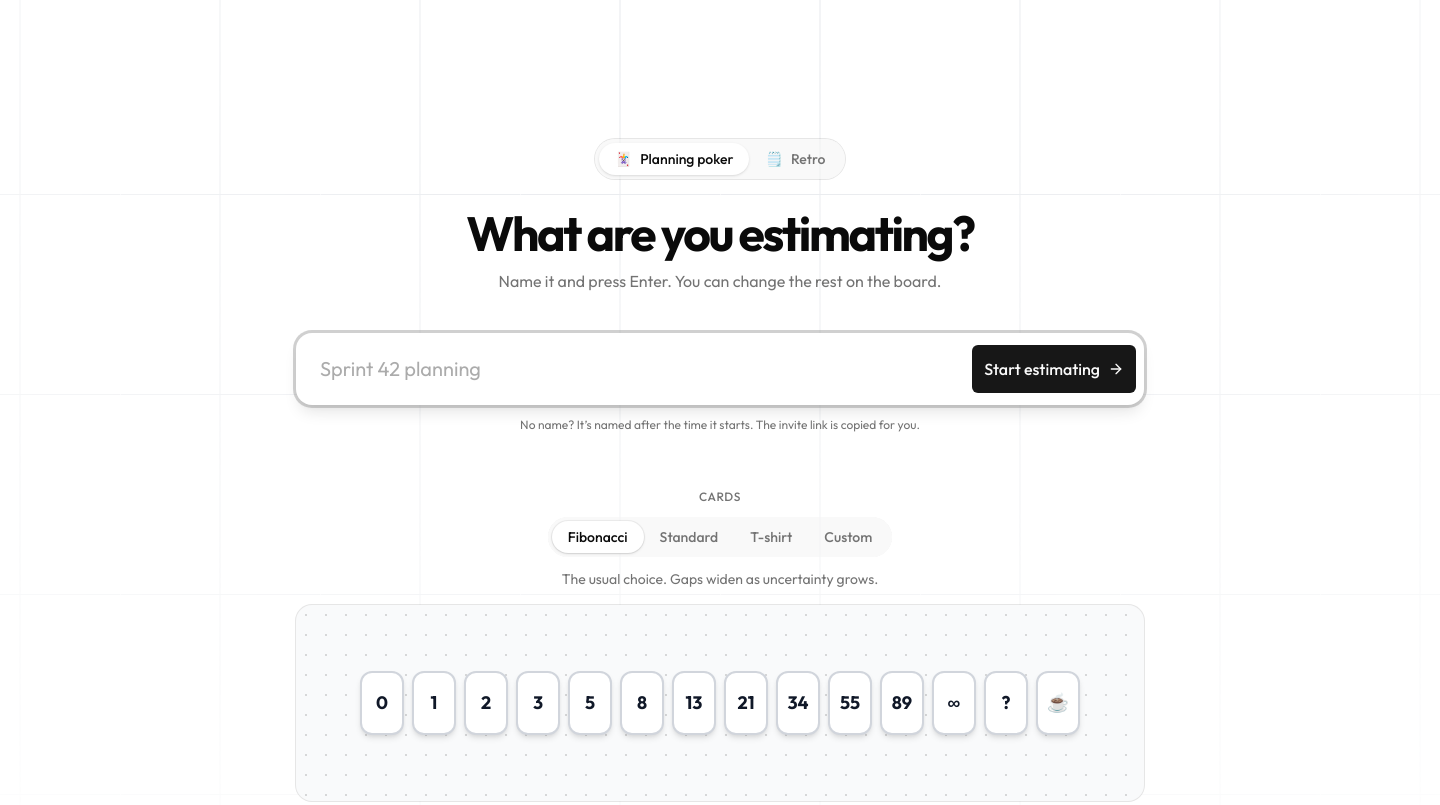
Test: CreateContent's custom pick, as the deck reads it › takes no more than a card holds, and says so in the card's rule
Click the radio button labelled "Custom".
click(848, 537)  # box [824,528,872,546]
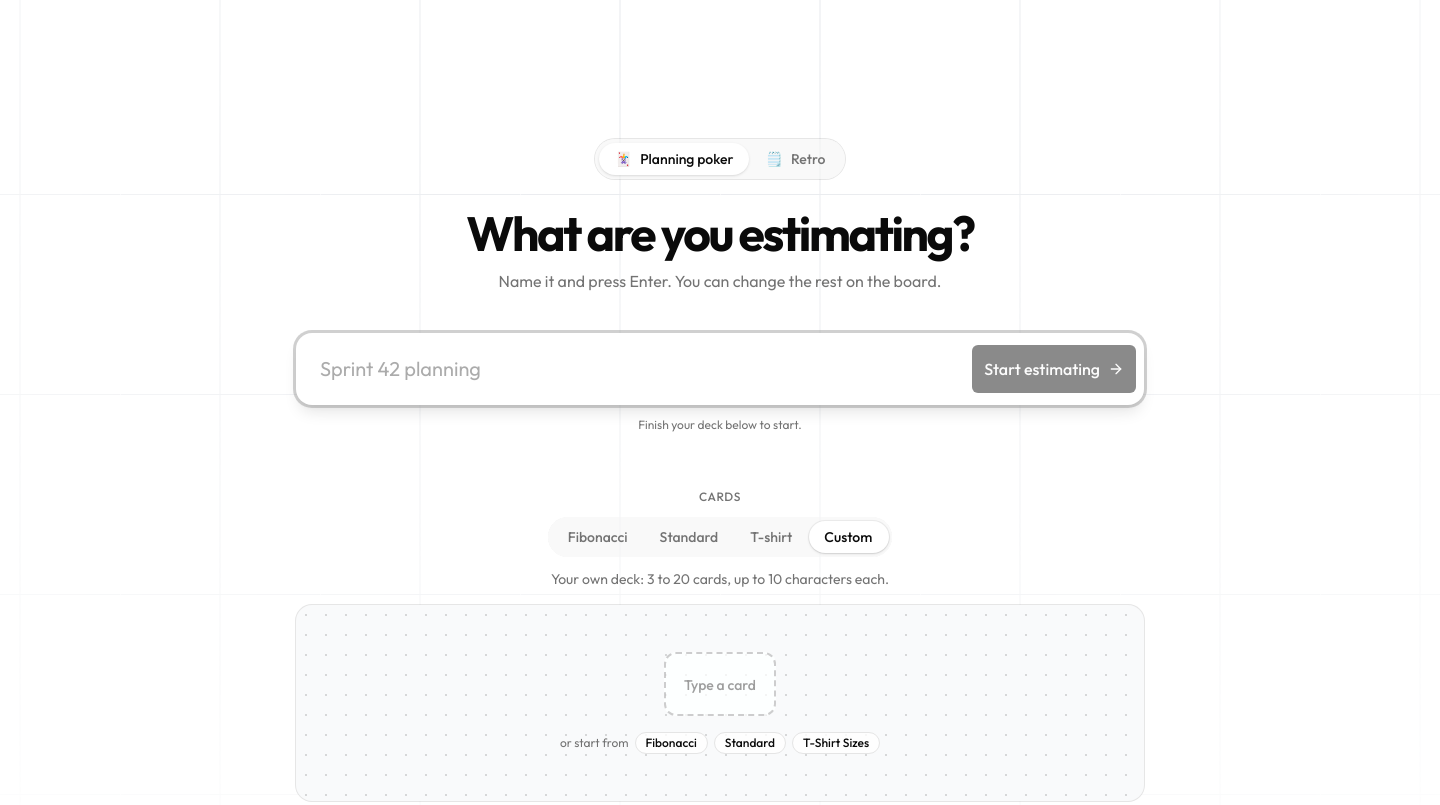
Type "Elephantine" into the field named "Add a card".
click(720, 684); type("Elephantine")  # box [664,652,776,716]
(page scrolled)
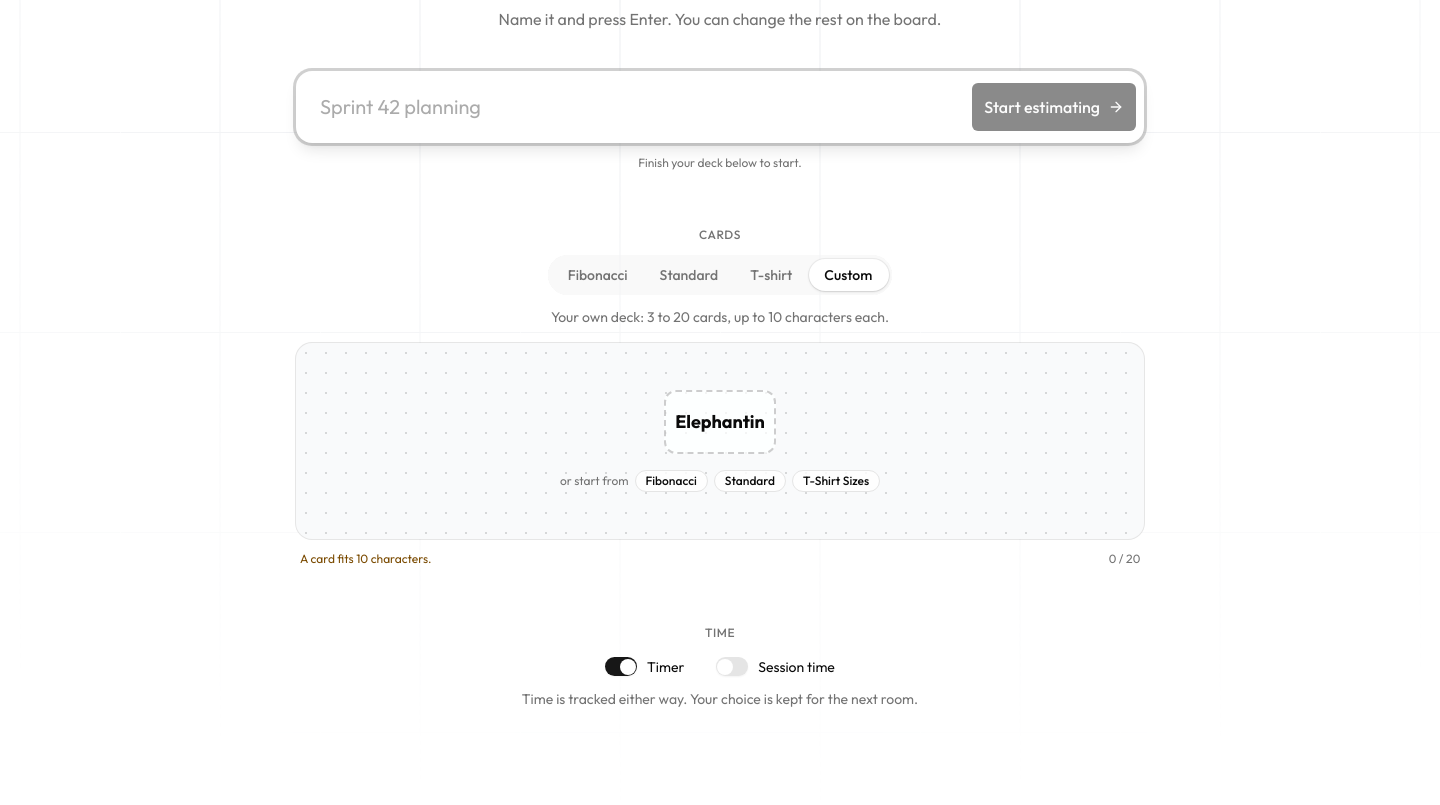
Expected: the field named "Add a card" holds "Elephantin", [664,390,776,454]
Expected: the text "A card fits 10 characters." is shown, [300,551,432,567]
